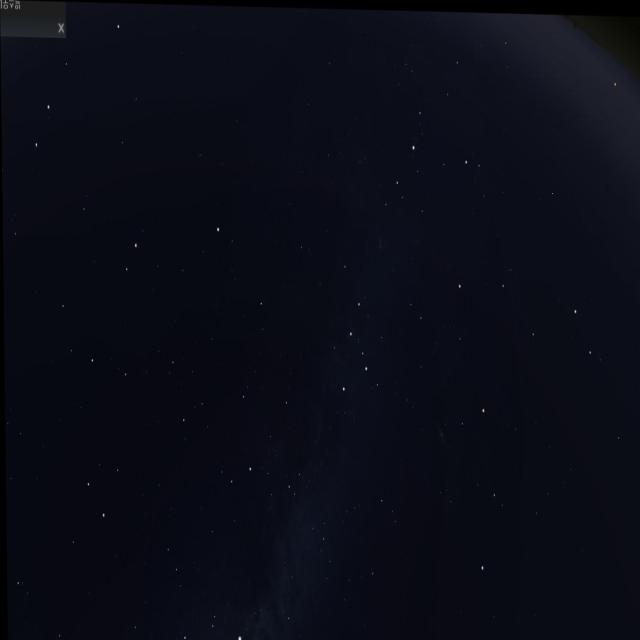cassiopeia: (328, 253, 372, 404)
